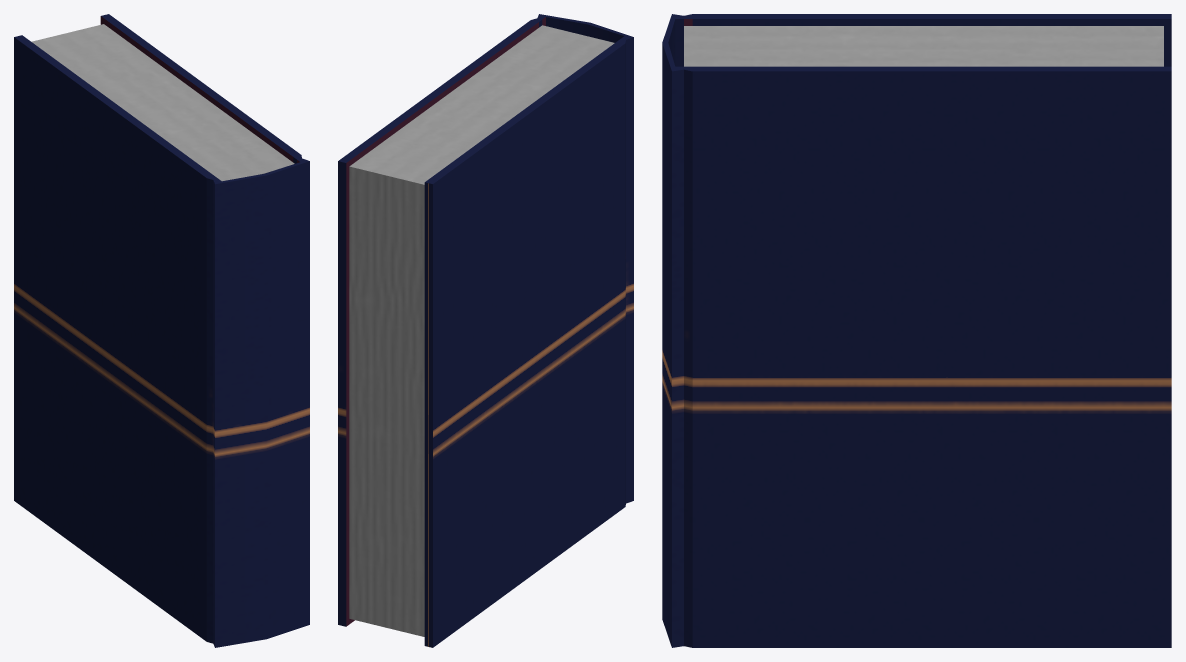
The model's file is Prop_Books_1.fbx.
The picture shows the model from 3 angles, left to right: view 1: azimuth 30°, elevation 25°; view 2: azimuth 150°, elevation 25°; view 3: azimuth 270°, elevation 25°; orthographic projection. The views are drawn at different scales.
Visible parts, largest first — view 1: Prop_Books_1; view 2: Prop_Books_1; view 3: Prop_Books_1.
Part boxes in pixels (box(x1,y1,x2,y2)): Prop_Books_1: box(14, 14, 309, 647); Prop_Books_1: box(338, 14, 633, 647); Prop_Books_1: box(662, 14, 1171, 647).
Bounding box in the file's own units: 0.0355 × 0.1658 × 0.1328.
